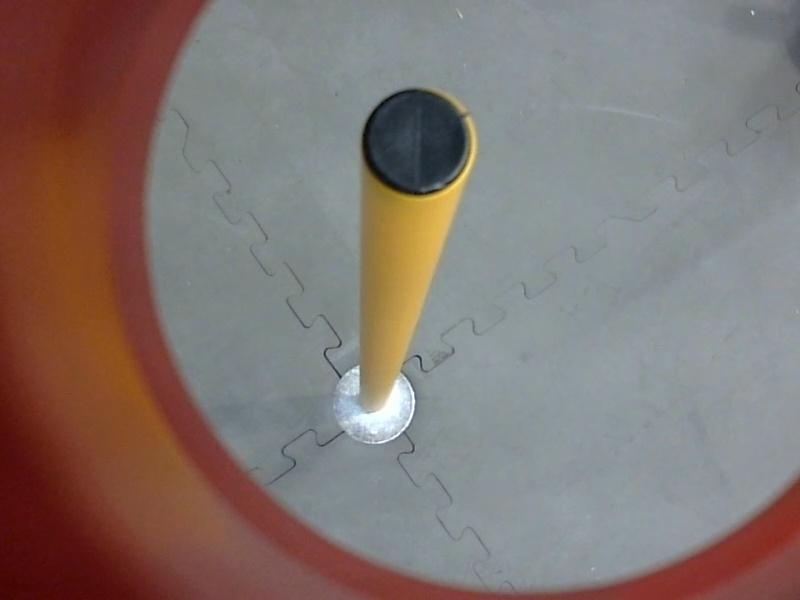tip: (349, 75, 482, 202)
